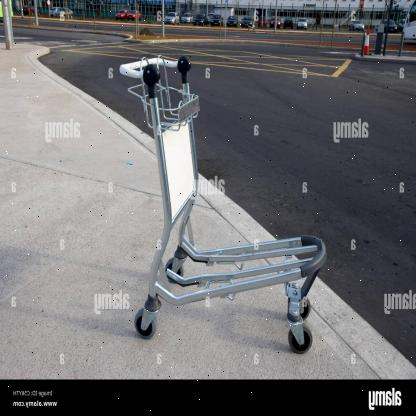airport-trolley: (118, 54, 327, 355)
